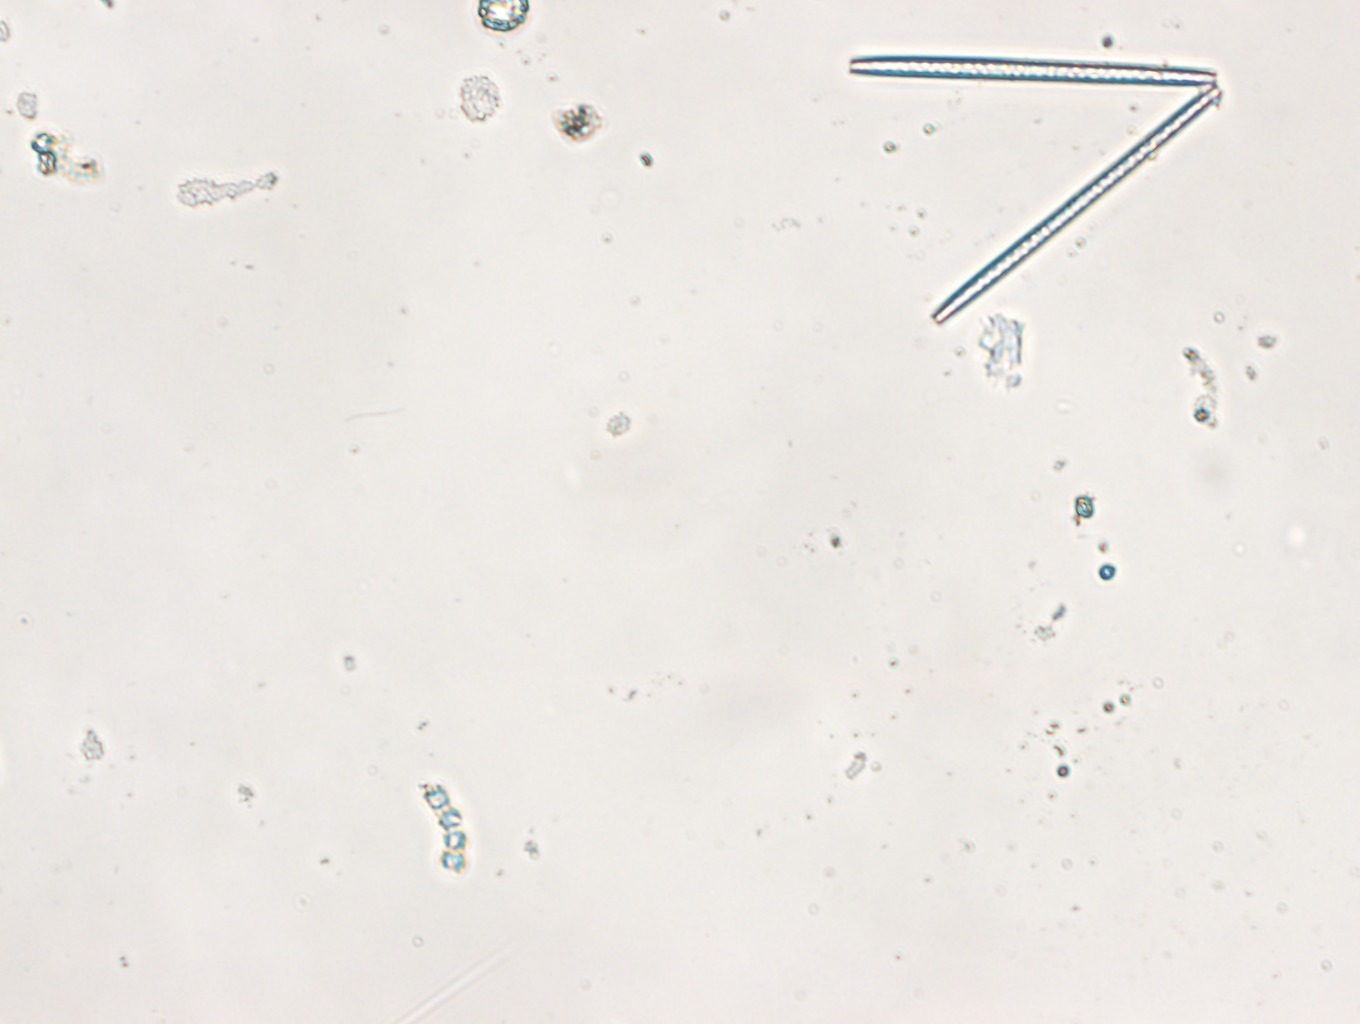thalassionema frauenfeldii: (850, 51, 1223, 328)
